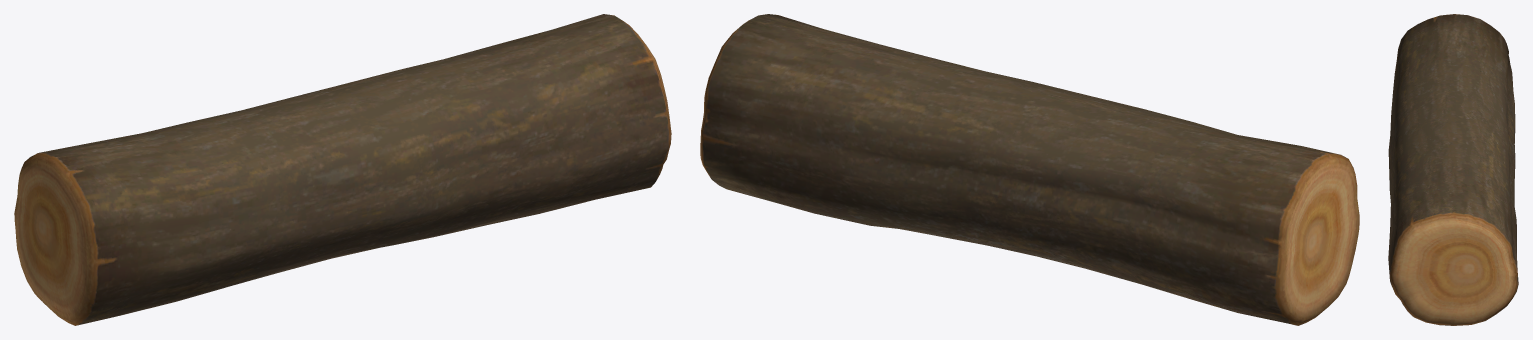
Rendered from bench-wood.glb.
3 renders of one model, left to right at view 1: azimuth 30°, elevation 25°; view 2: azimuth 150°, elevation 25°; view 3: azimuth 270°, elevation 25°, orthographic. The views are drawn at different scales.
Parts seen in each view (by area): view 1: FtrWoodBench_low__mReBody; view 2: FtrWoodBench_low__mReBody; view 3: FtrWoodBench_low__mReBody.
Part boxes in pixels (x1=…): FtrWoodBench_low__mReBody: x1=14, y1=14, x2=671, y2=325; FtrWoodBench_low__mReBody: x1=700, y1=14, x2=1359, y2=325; FtrWoodBench_low__mReBody: x1=1388, y1=14, x2=1518, y2=325.
Bounding box in the file's own units: 1.95 × 0.5106 × 0.528.
Materials: 1 (1 with a texture image).
